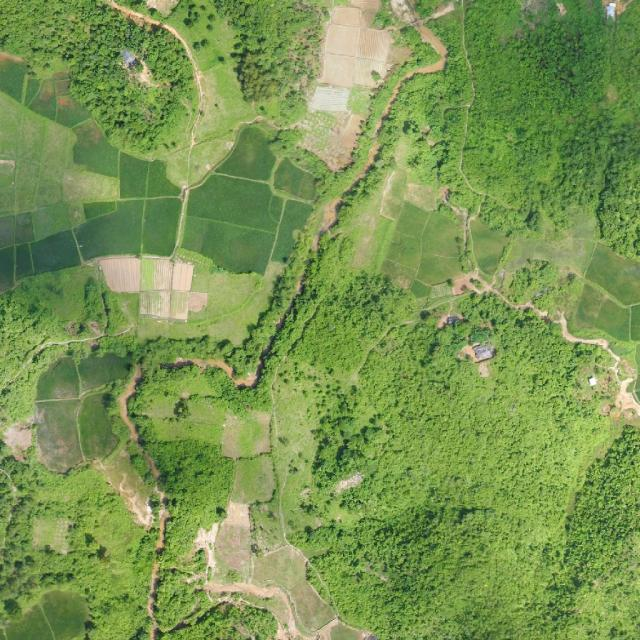agricultural_land: (0, 54, 183, 291), (493, 200, 640, 369), (379, 168, 476, 309), (96, 255, 209, 321), (333, 184, 404, 276), (178, 214, 276, 280), (186, 170, 284, 232), (215, 121, 288, 197), (270, 158, 317, 263), (450, 216, 513, 278), (378, 166, 411, 221)
greenland: (298, 295, 640, 640), (0, 441, 155, 639), (282, 253, 420, 398), (391, 6, 473, 200), (221, 241, 327, 381), (148, 431, 247, 565), (271, 360, 319, 529), (129, 365, 227, 445), (266, 119, 345, 201), (143, 559, 215, 634), (197, 368, 276, 424), (160, 602, 278, 639), (135, 329, 234, 367), (158, 346, 164, 351)
